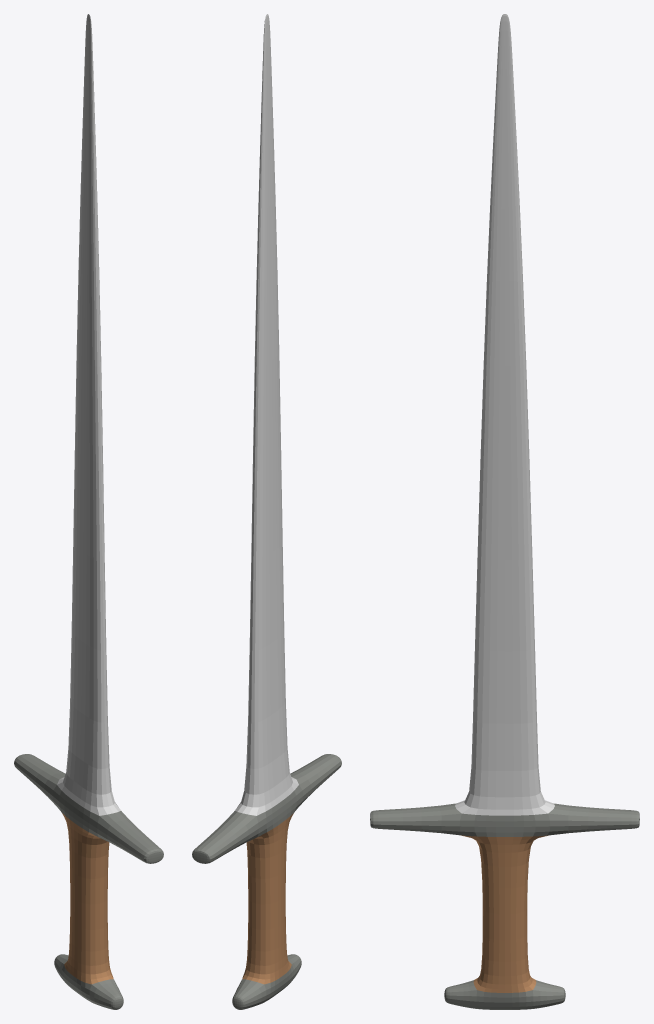
Rendered from Sword 1.fbx.
3 views of the same model, side by side, from view 1: azimuth 30°, elevation 25°; view 2: azimuth 150°, elevation 25°; view 3: azimuth 270°, elevation 25° (orthographic).
Visible parts, largest first — view 1: Cube; view 2: Cube; view 3: Cube.
Part boxes in pixels (x1,y1,x2,y2): Cube: (14, 14, 163, 1009); Cube: (192, 14, 341, 1009); Cube: (370, 14, 639, 1009).
Size of the model in its own units: 21.94 by 662 by 163.
